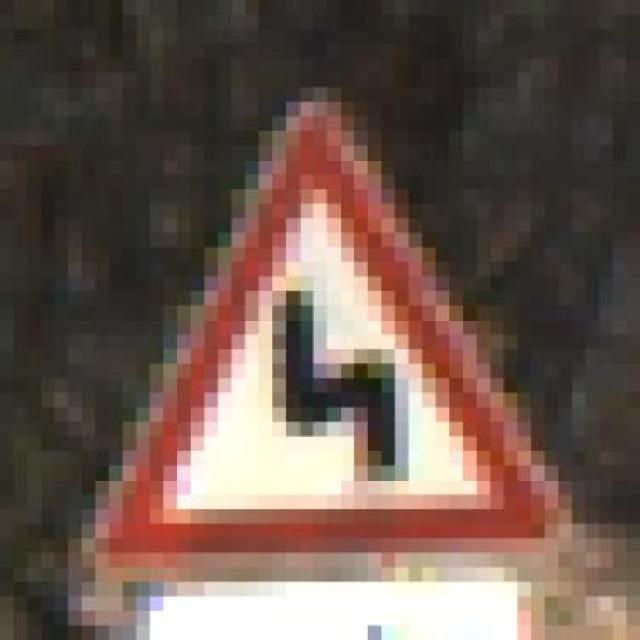Left Zig Zag Traffic: (54, 72, 586, 568)
